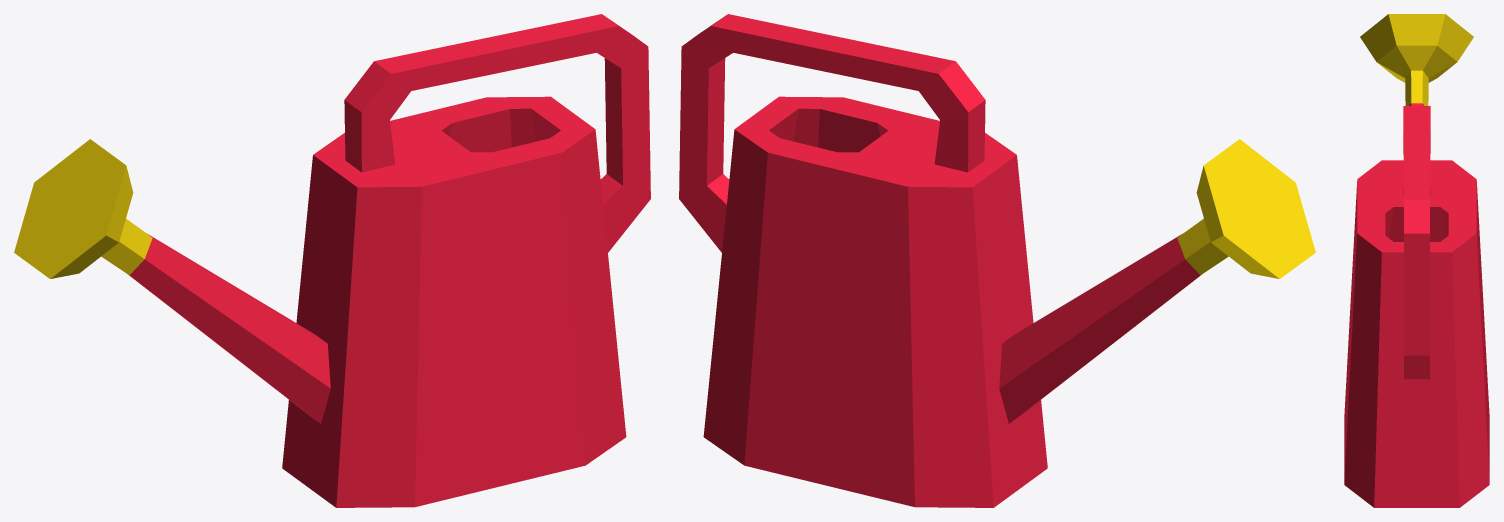
File: Watering Can.fbx
3 renders of one model, left to right at view 1: azimuth 30°, elevation 25°; view 2: azimuth 150°, elevation 25°; view 3: azimuth 270°, elevation 25°, orthographic. The views are drawn at different scales.
Parts seen in each view (by area): view 1: Watering Can; view 2: Watering Can; view 3: Watering Can.
Boxes of the visible parts, x1,y1,x2,y2 form: Watering Can: (14,14,650,507); Watering Can: (679,14,1315,507); Watering Can: (1344,14,1489,507).
Size of the model in its own units: 0.7415 by 0.4672 by 0.1935.
